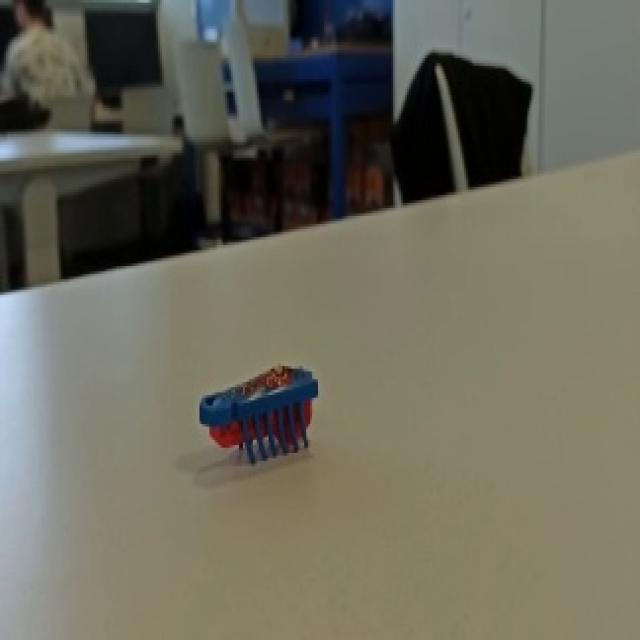1_NanoBug_Azul: (176, 340, 336, 489)
